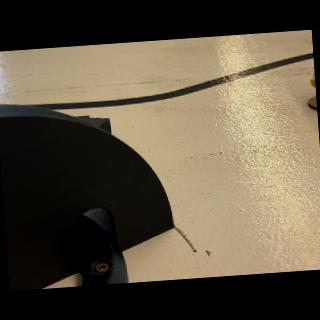teletubby: (310, 71, 315, 88)
